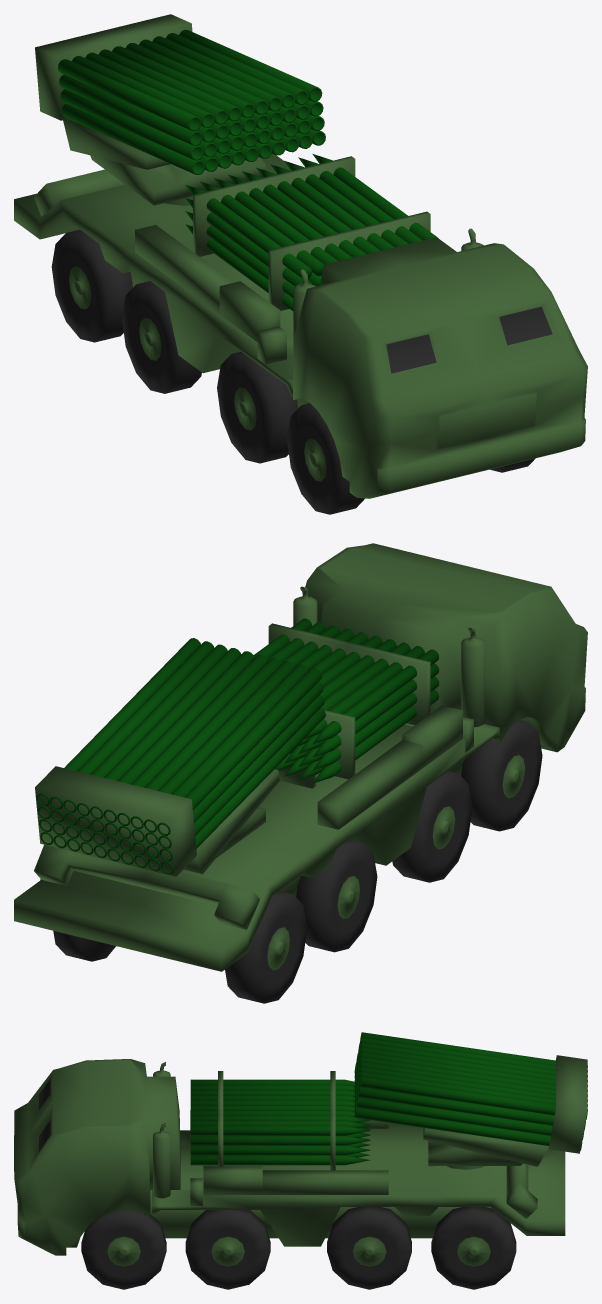
The model's file is rm_grad_70.fbx.
3 renders of one model, top to bottom at view 1: azimuth 30°, elevation 25°; view 2: azimuth 150°, elevation 25°; view 3: azimuth 270°, elevation 25°, orthographic. The views are drawn at different scales.
Visible parts, largest first — view 1: Plane; view 2: Plane; view 3: Plane.
Boxes of the visible parts, x1,y1,x2,y2 form: Plane: (14,14,587,514); Plane: (14,543,587,1003); Plane: (14,1032,587,1289).
Size of the model in its own units: 2.5 by 3.08 by 8.04.
